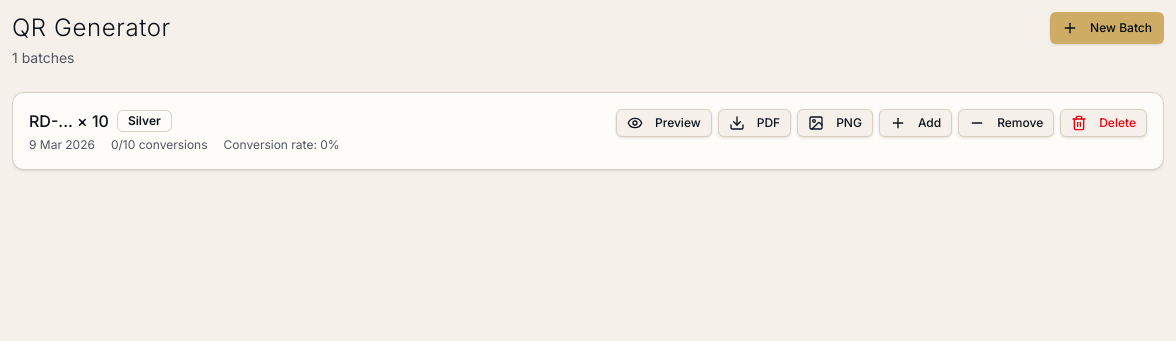
Test: AdminQrGeneratorPage › clicking Delete shows inline form with password input and delete warning
Click the button "Delete" at (1104, 123), box [1060,109,1147,137]
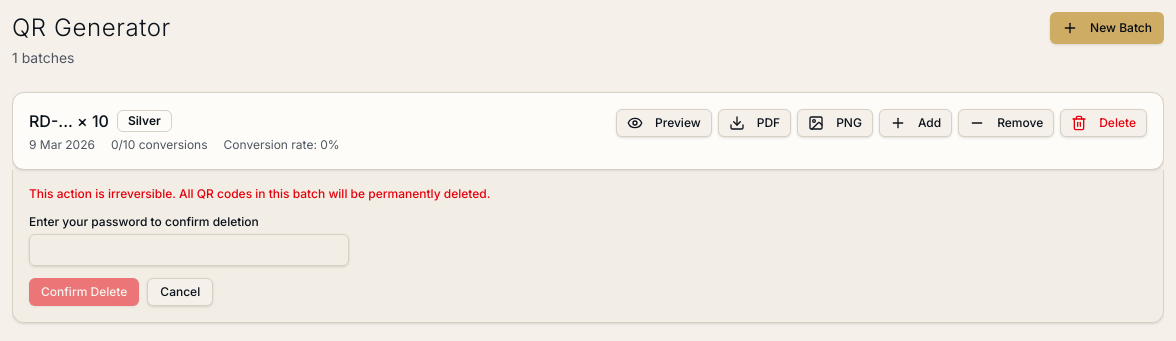
Check: the text "This action is irreversible. All QR codes in this batch will be permanently deleted." is shown, box [29,186,490,201]
Check: the text "Enter your password to confirm deletion" is shown, box [29,214,259,229]
Check: the button "Confirm Delete" is shown, box [29,278,139,306]
